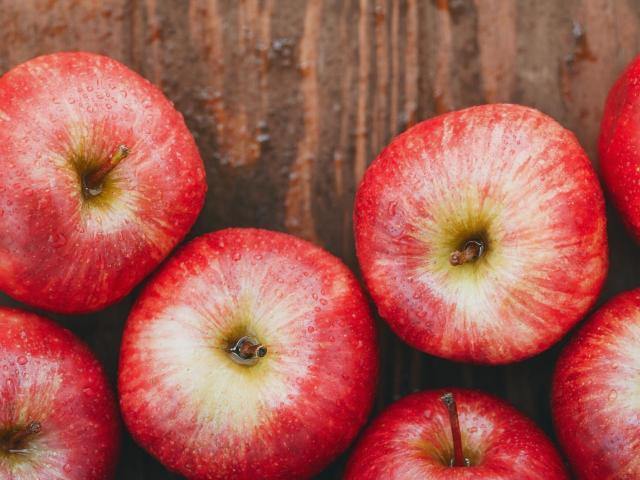red apple: (117, 228, 382, 478), (356, 103, 609, 360), (2, 50, 213, 313), (2, 306, 118, 480), (351, 389, 572, 480)
